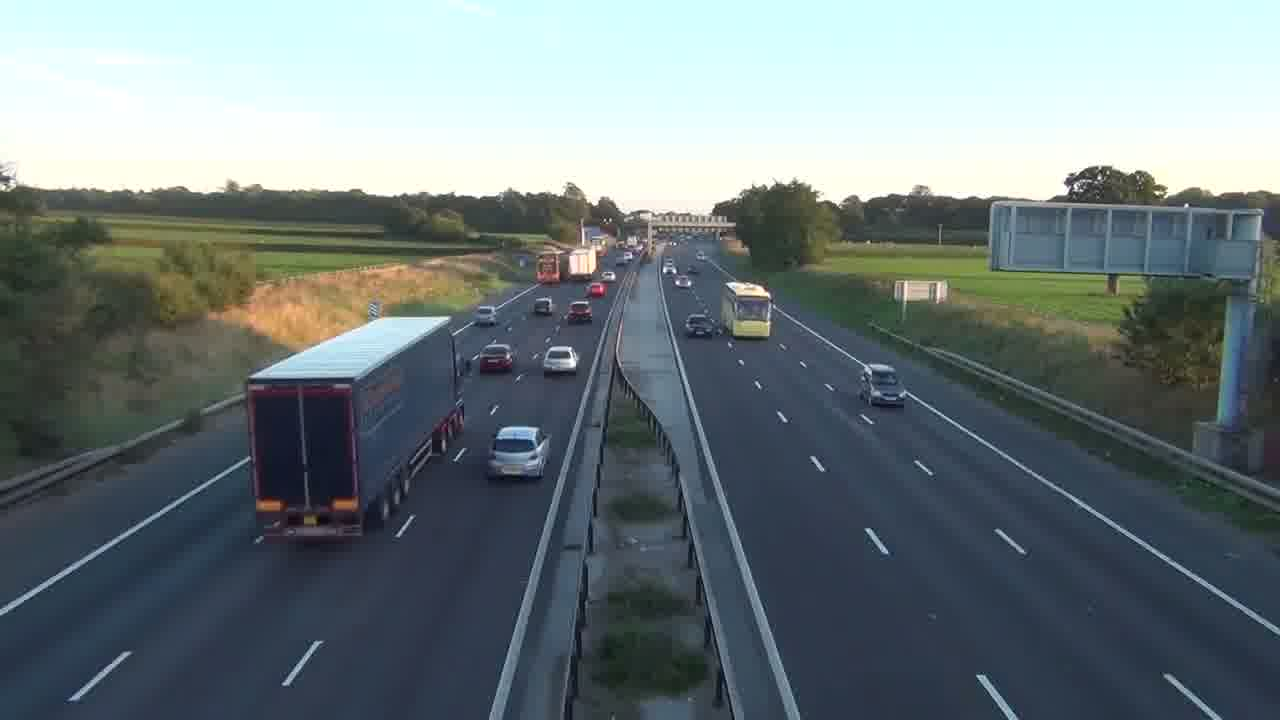car: (860, 362, 906, 408), (478, 342, 514, 373), (542, 344, 578, 374), (684, 312, 716, 337), (566, 302, 593, 325), (533, 296, 554, 315)
truck: (244, 312, 467, 546)
